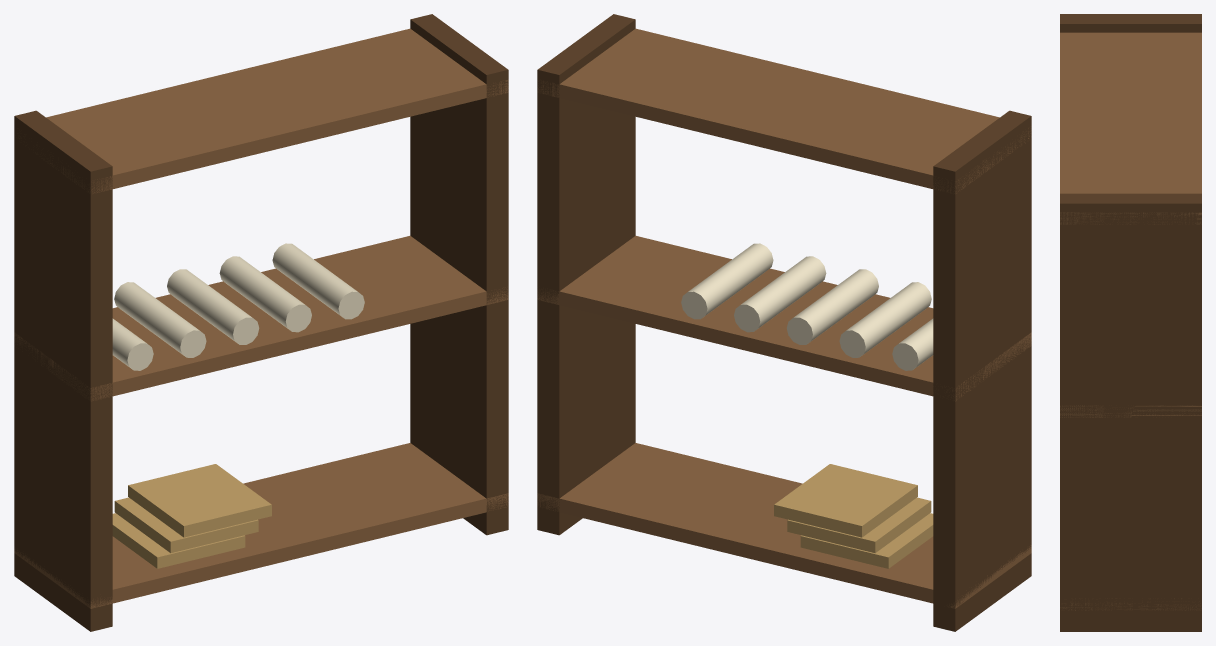
The model's file is record-shelf.glb.
3 renders of one model, left to right at view 1: azimuth 30°, elevation 25°; view 2: azimuth 150°, elevation 25°; view 3: azimuth 270°, elevation 25°, orthographic. The views are drawn at different scales.
Size of the model in its own units: 0.95 by 1 by 0.3.
